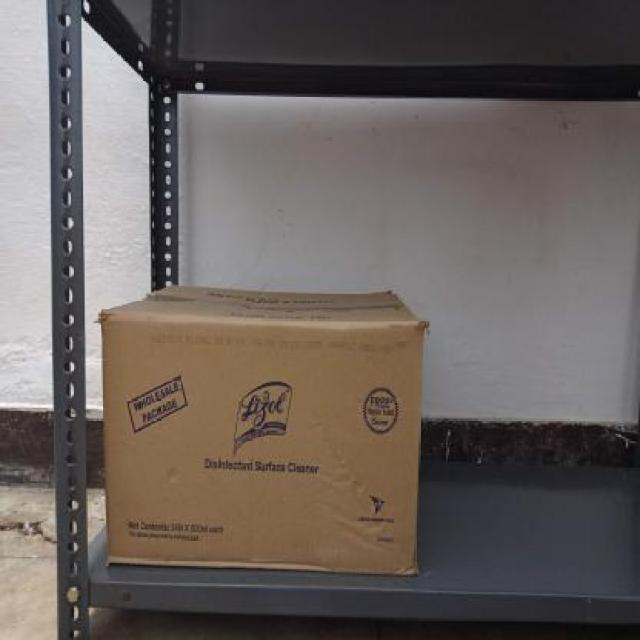box: (101, 311, 419, 577)
